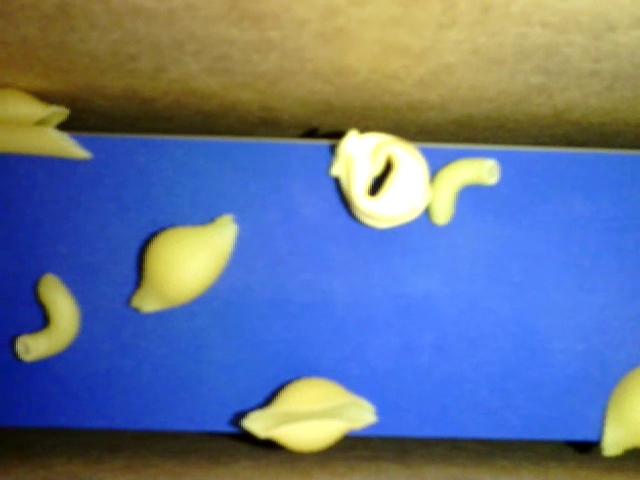elbow: (14, 271, 81, 362), (427, 157, 498, 224)
penne: (1, 123, 95, 160)
shell: (238, 372, 376, 455), (131, 212, 236, 316), (598, 364, 639, 461), (1, 86, 77, 133)
tortellini: (332, 128, 431, 232)
